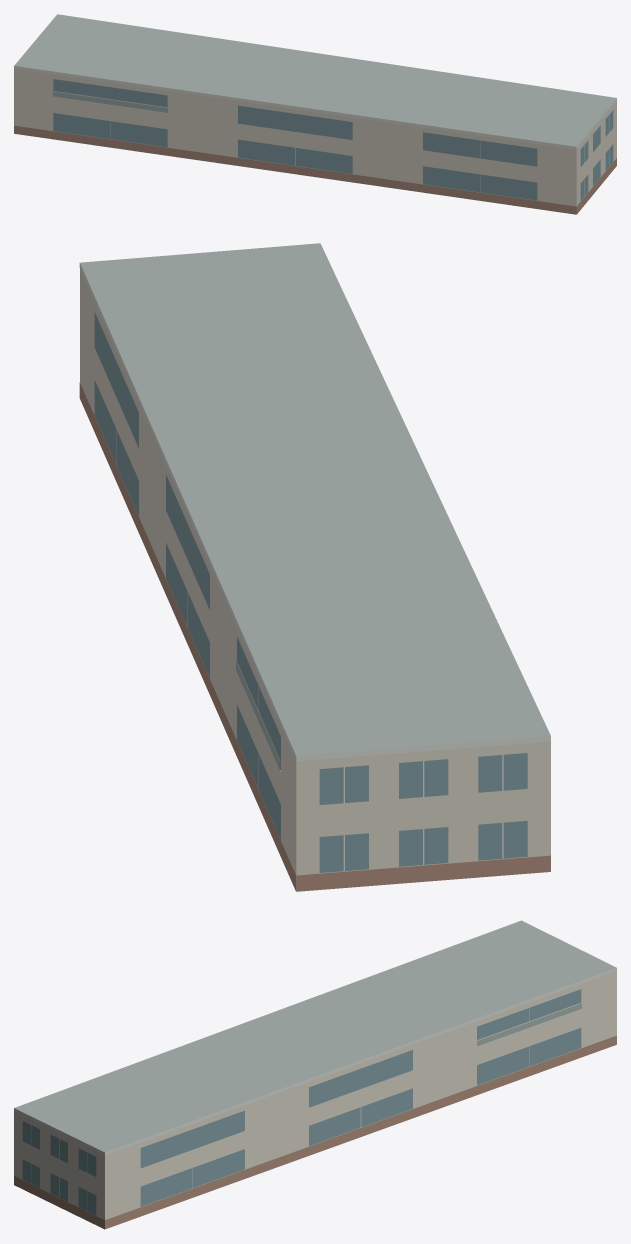
Rendered from survey-upis-32523312.glb.
3 views of the same model, one above another, from view 1: azimuth 30°, elevation 25°; view 2: azimuth 150°, elevation 25°; view 3: azimuth 270°, elevation 25° (orthographic). The views are drawn at different scales.
Visible parts, largest first — view 1: survey-upis-32523312.tmp; view 2: survey-upis-32523312.tmp; view 3: survey-upis-32523312.tmp.
Part boxes in pixels (<box>): survey-upis-32523312.tmp: <box>14,14,616,214</box>; survey-upis-32523312.tmp: <box>79,243,550,891</box>; survey-upis-32523312.tmp: <box>14,920,616,1229</box>.
Size of the model in its own units: 39.43 by 6.1 by 43.29.
